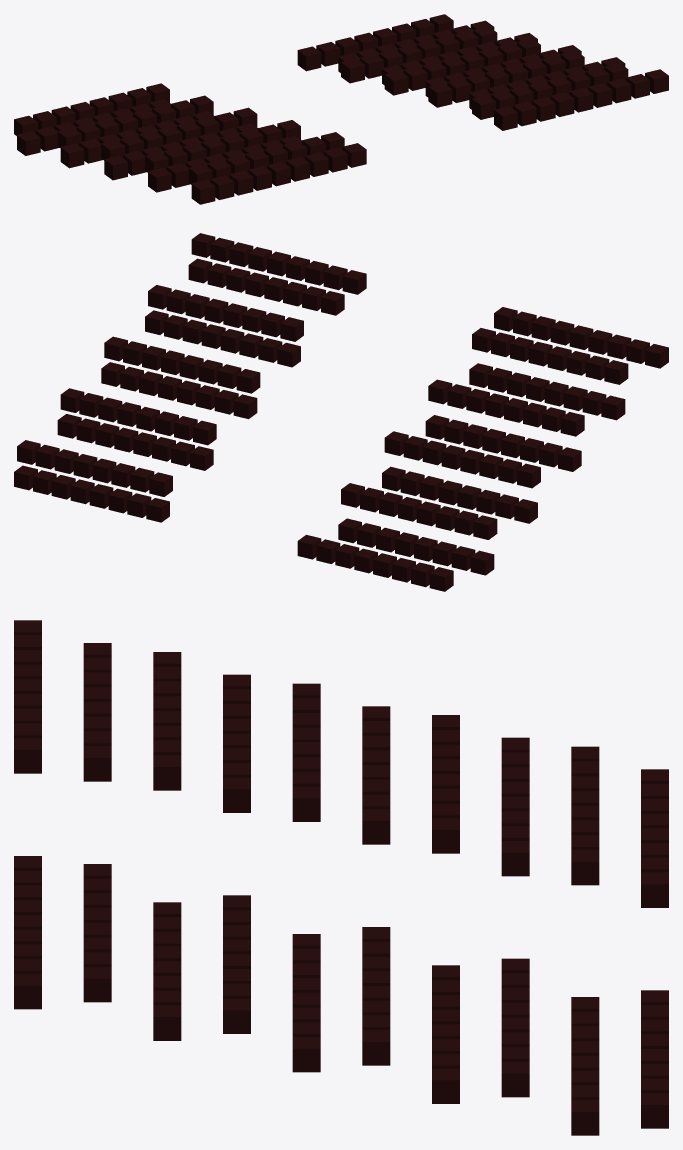
File: Theat TempSeats 2.FBX
3 views of the same model, one above another, from view 1: azimuth 30°, elevation 25°; view 2: azimuth 150°, elevation 25°; view 3: azimuth 270°, elevation 25° (orthographic). The views are drawn at different scales.
Visible parts, largest first — view 1: Temp Seats; view 2: Temp Seats; view 3: Temp Seats.
Boxes of the visible parts, box(x1,y1,x2,y2) form: Temp Seats: box(14, 14, 668, 204); Temp Seats: box(14, 233, 668, 591); Temp Seats: box(14, 620, 668, 1135).
Size of the model in its own units: 24.8 by 5 by 18.8.
